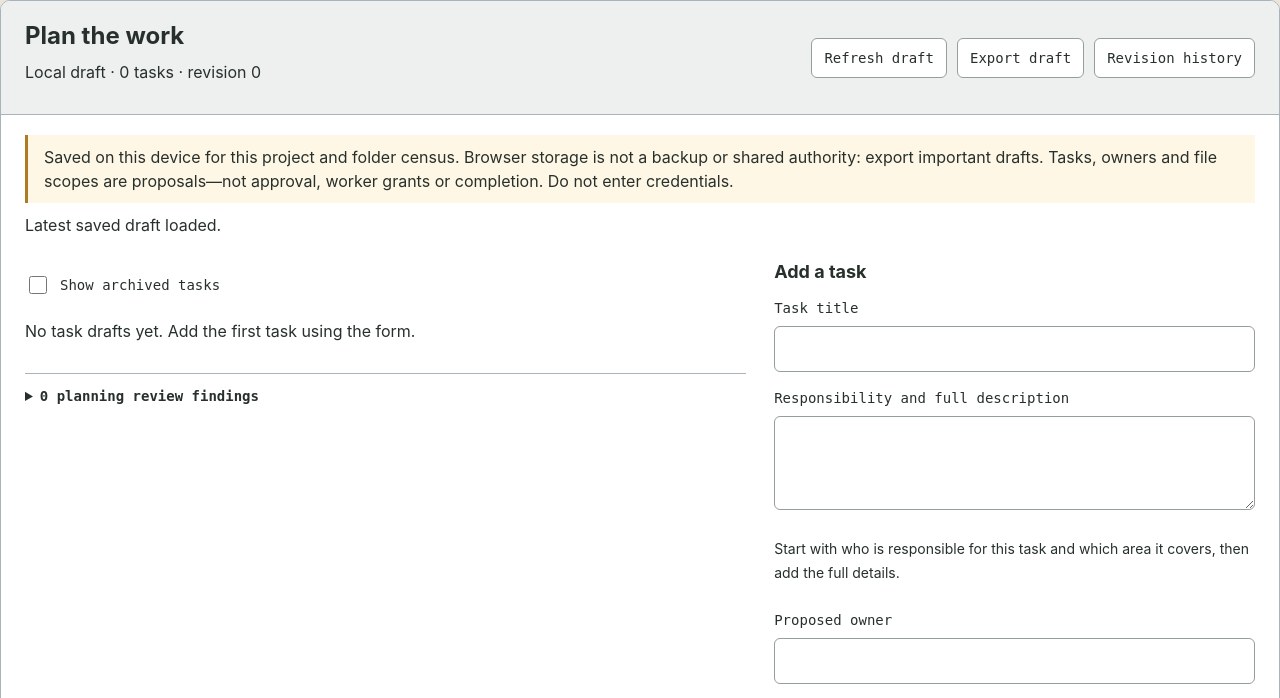
Test: rejected preparation can durably withdraw exact absent original without clearing by absence
The width and height of the screenshot is (1280, 698).
In the field labelled "Task title": (1015, 349) [774, 326, 1255, 372], type "Durable original task"
(page scrolled)
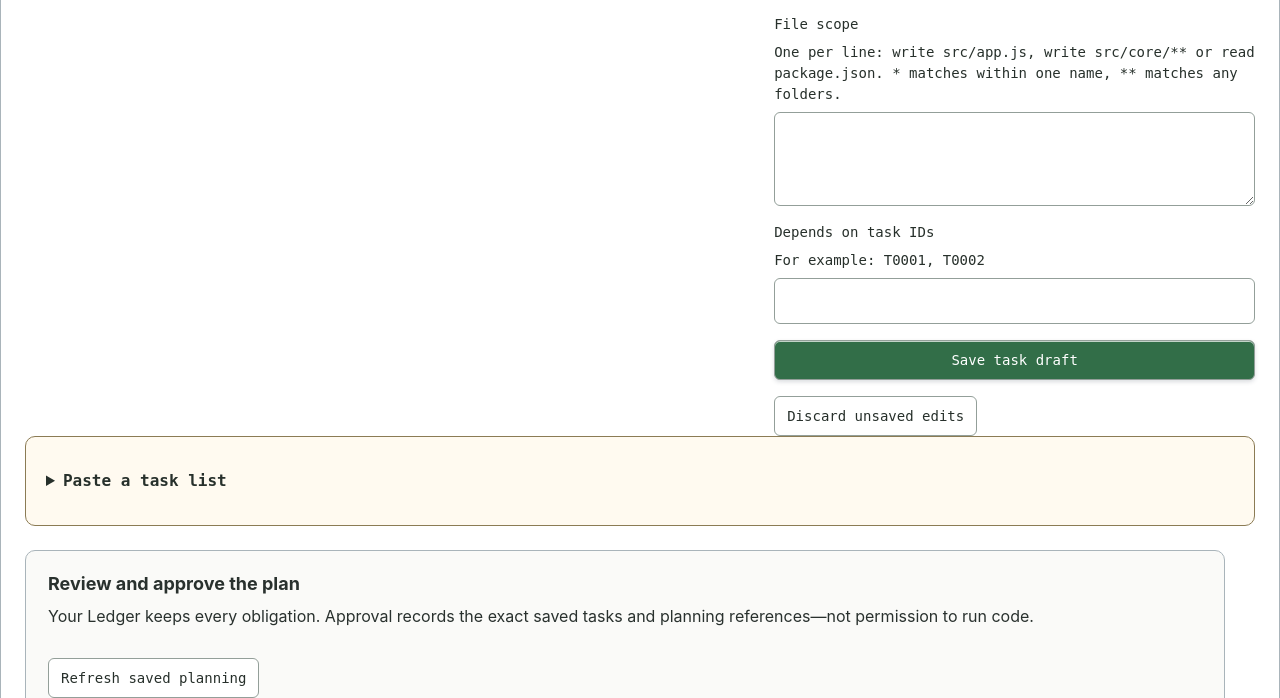
Click the button "Save task draft": click(1015, 360) [774, 340, 1255, 380]
(page scrolled)
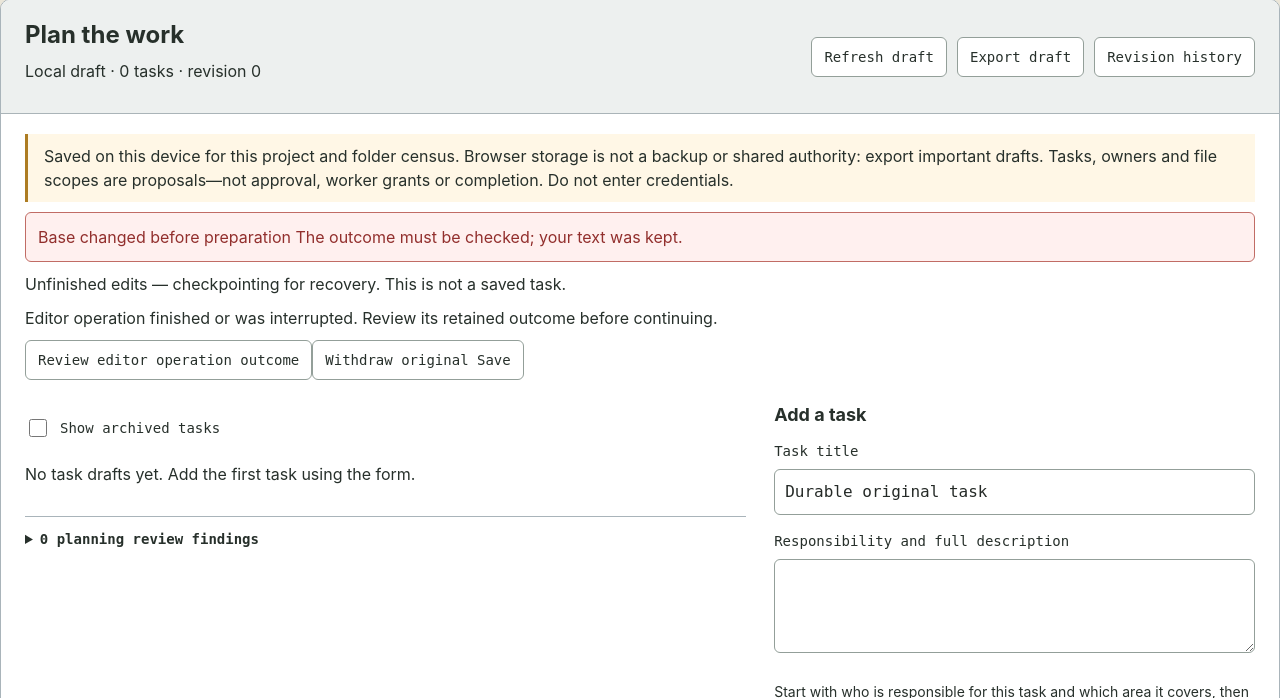
Click the button "Withdraw original Save": click(418, 360) [312, 340, 524, 380]
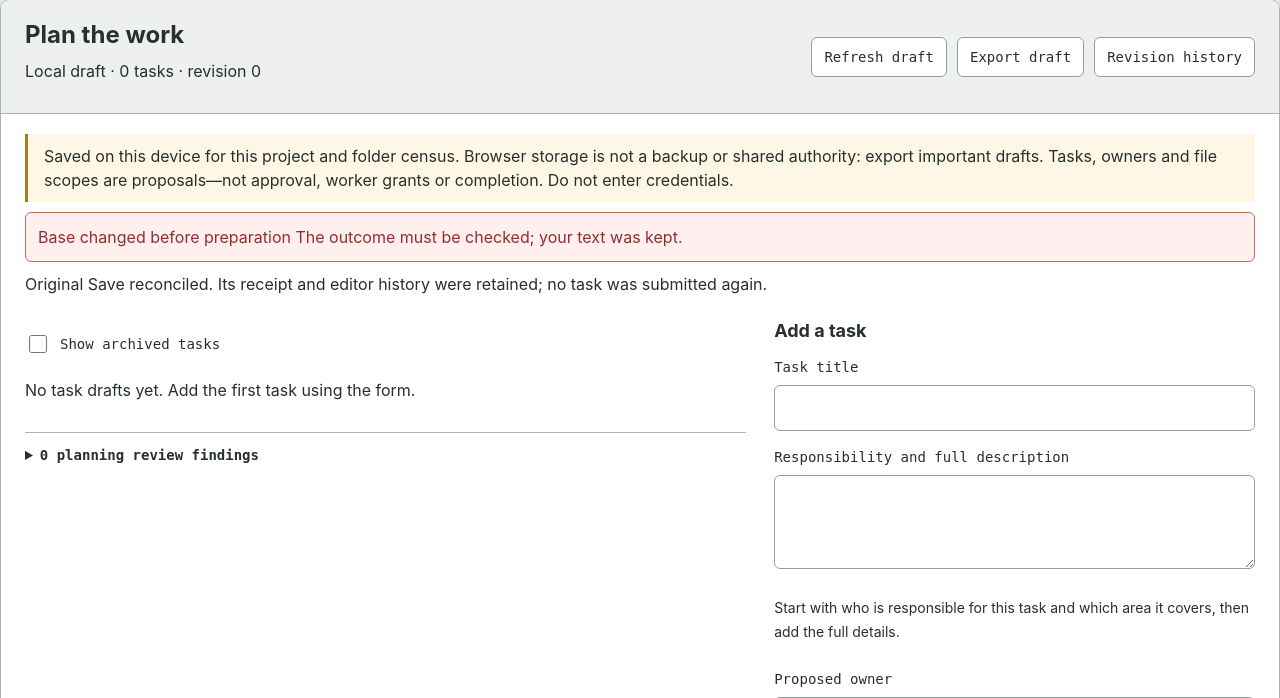
Now the text "Original Save reconciled" is shown, box [25, 274, 767, 294]
